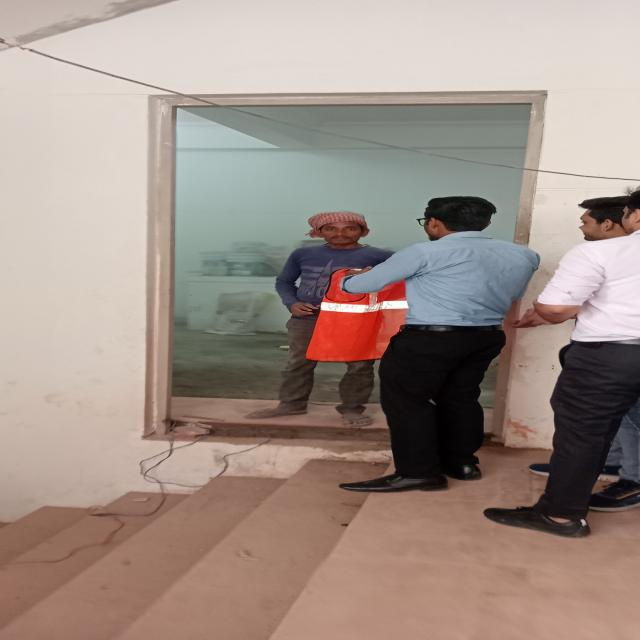unsafe: (328, 195, 542, 496), (292, 210, 388, 432)
